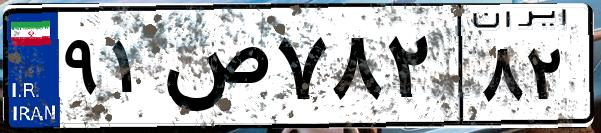1: (110, 28, 158, 98)
2: (385, 28, 445, 110), (525, 38, 570, 115)
7: (270, 28, 330, 110)
8: (330, 28, 385, 110), (475, 38, 525, 113)
9: (57, 26, 110, 100)
ص: (158, 20, 270, 120)
